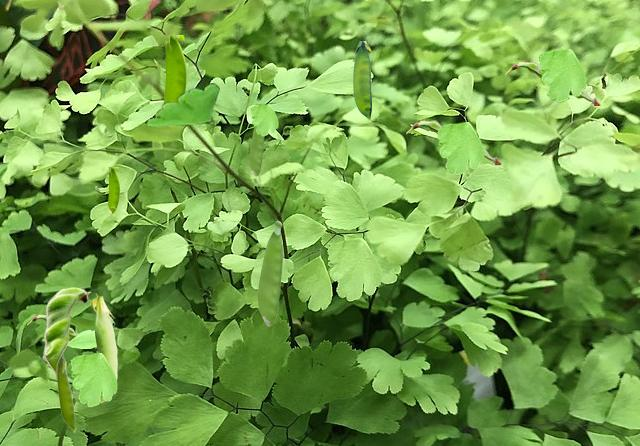pea: (42, 287, 90, 378), (406, 120, 500, 163), (505, 61, 599, 104), (90, 293, 116, 402), (257, 220, 282, 325), (27, 314, 95, 348), (56, 354, 75, 432), (164, 35, 185, 101), (353, 41, 370, 119), (249, 127, 263, 175), (108, 167, 118, 214)
